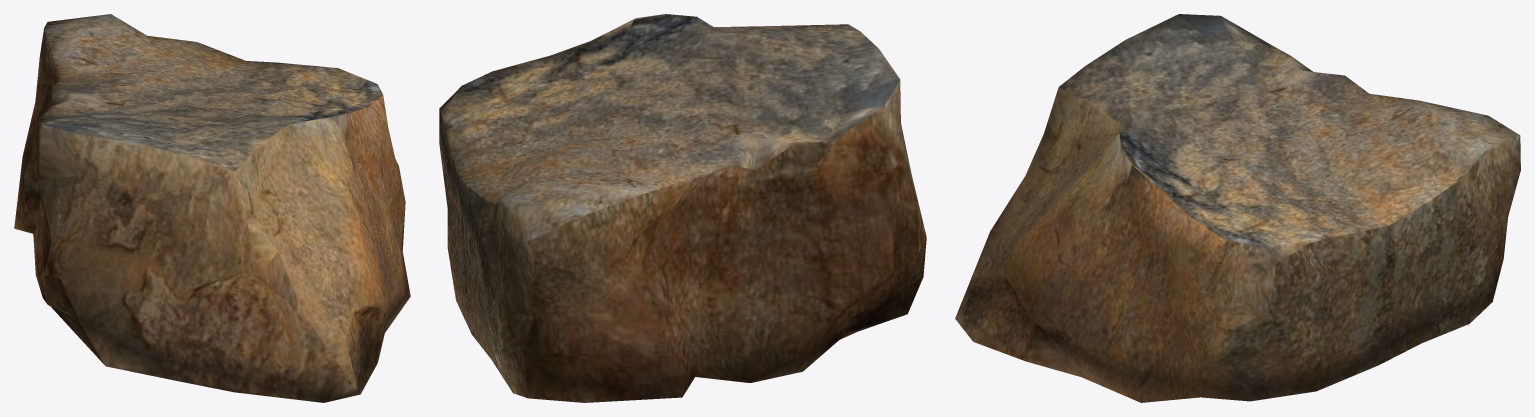
The model's file is rock_a_lod0.glb.
The picture shows the model from 3 angles, left to right: view 1: azimuth 30°, elevation 25°; view 2: azimuth 150°, elevation 25°; view 3: azimuth 270°, elevation 25°; orthographic projection. The views are drawn at different scales.
Visible parts, largest first — view 1: rock; view 2: rock; view 3: rock.
Part boxes in pixels (box(x1,y1,x2,y2)): rock: box(14, 14, 410, 402); rock: box(439, 14, 926, 402); rock: box(955, 14, 1520, 402).
Bounding box in the file's own units: 2.17 × 1.32 × 2.8.
Materials: 1 (1 with a texture image).
